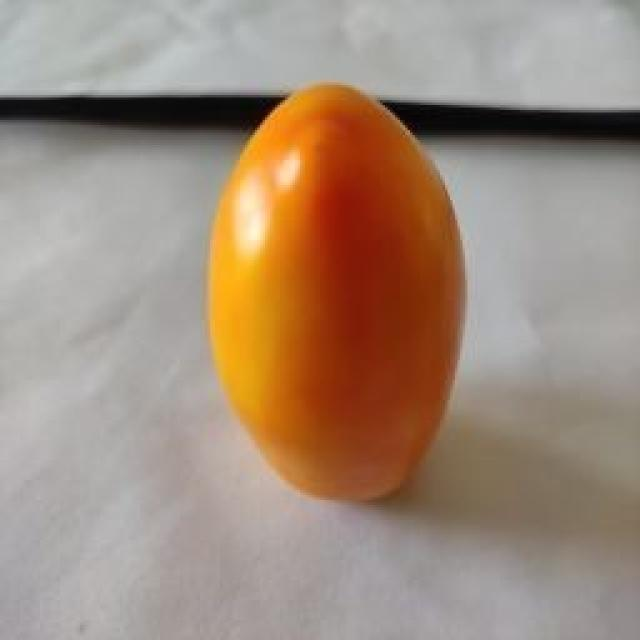unripe: (185, 130, 470, 460)
